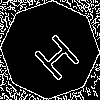H: (25, 25, 83, 83)
